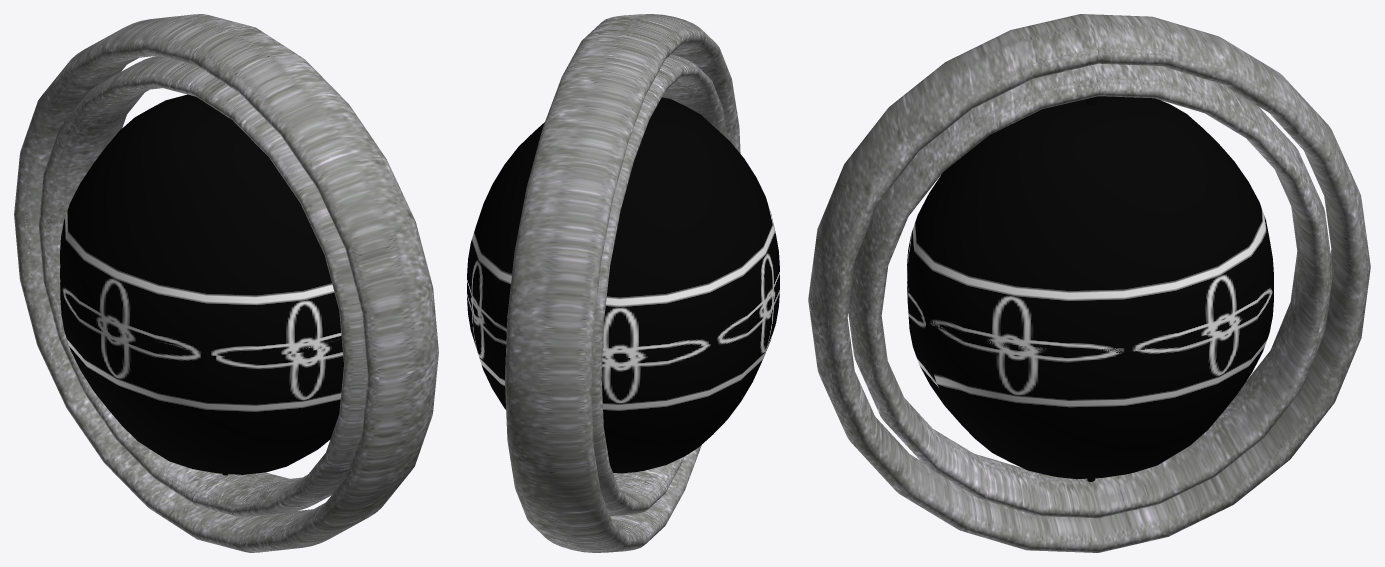
File: FBXWeakShit.fbx
3 renders of one model, left to right at view 1: azimuth 30°, elevation 25°; view 2: azimuth 150°, elevation 25°; view 3: azimuth 270°, elevation 25°, orthographic. The views are drawn at different scales.
Visible parts, largest first — view 1: polySurface1; view 2: polySurface1; view 3: polySurface1.
Boxes of the visible parts, x1=… form: polySurface1: x1=14, y1=14, x2=438, y2=552; polySurface1: x1=467, y1=14, x2=779, y2=552; polySurface1: x1=808, y1=14, x2=1370, y2=552.
Size of the model in its own units: 1.26 by 2.23 by 2.18.
